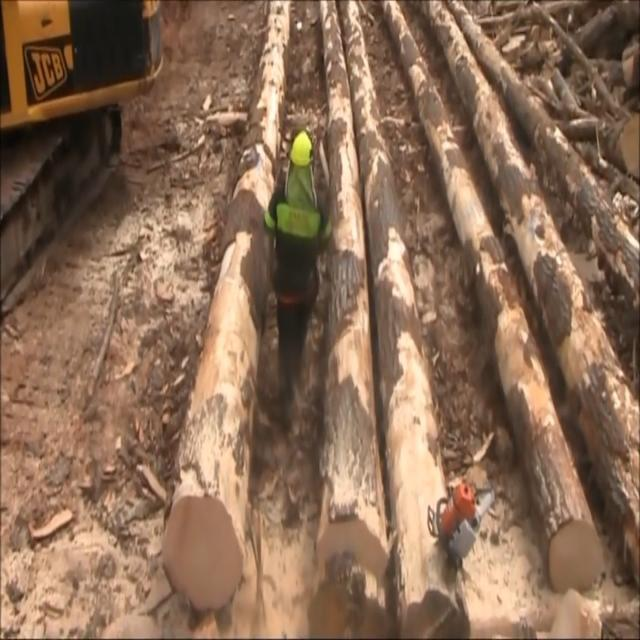Chainsaw: (423, 426, 515, 586)
